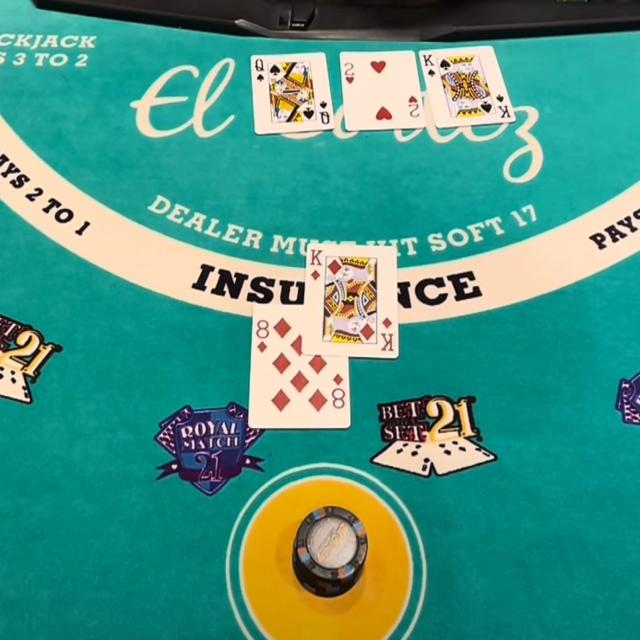2: (342, 60, 357, 76)
8: (256, 318, 270, 340)
K: (308, 248, 324, 268), (422, 53, 436, 68)
Q: (254, 56, 266, 74)
